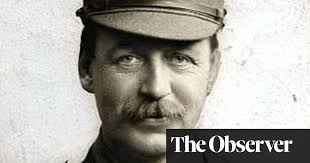middle_eastern_male: (110, 33, 205, 136)
